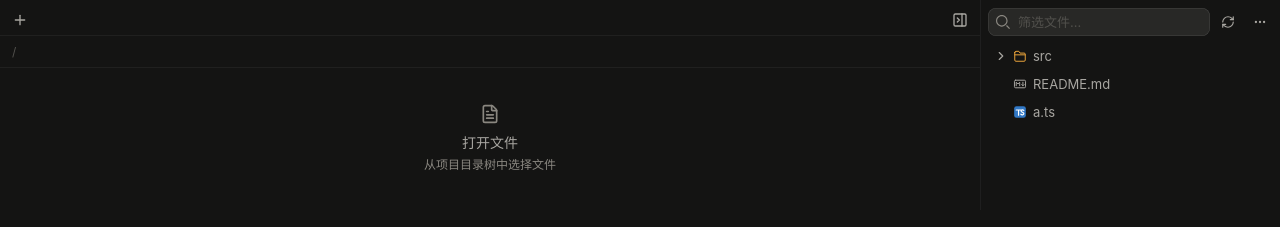
it: FilesPane › opens files as tabs with a breadcrumb; 「+」 only focuses the filter
Click the list item with class "file-tree-row" showing "README.md".
click(1072, 84)  # box [986, 70, 1274, 98]
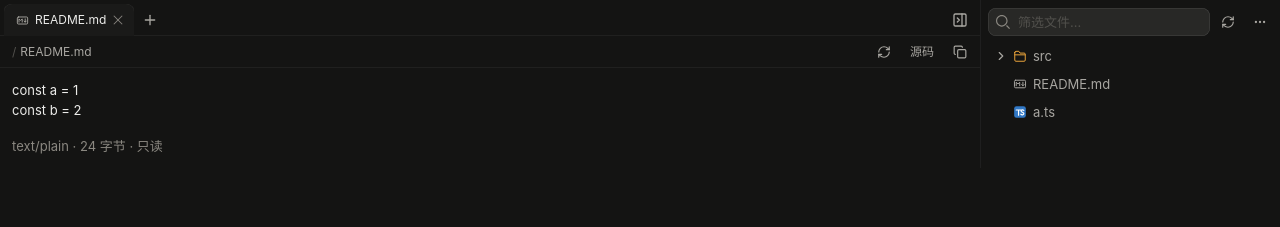
Now the navigation bar with class "file-crumbs" shows "README.md", box [20, 44, 92, 59]
Click the button named "打开文件".
click(150, 20)  # box [136, 6, 164, 34]
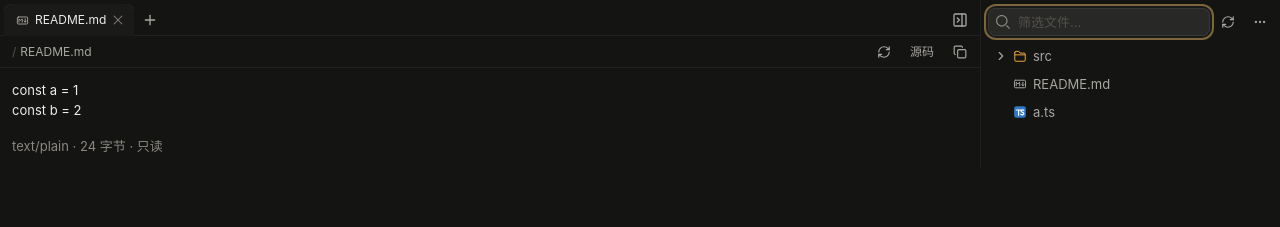
Now the element with class "tab-item" reads "README.md", box [4, 4, 110, 36]
Click the list item with class "file-tree-row" showing "a.ts".
click(1020, 112)  # box [986, 98, 1274, 126]
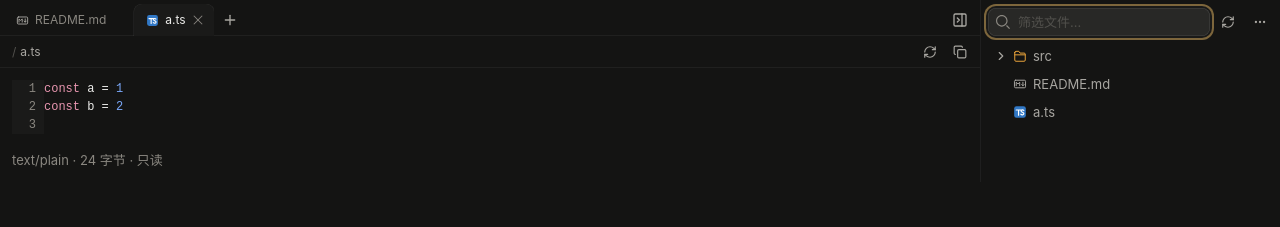
Now the element with class "tab-item" reads "a.ts", box [134, 4, 190, 36]
